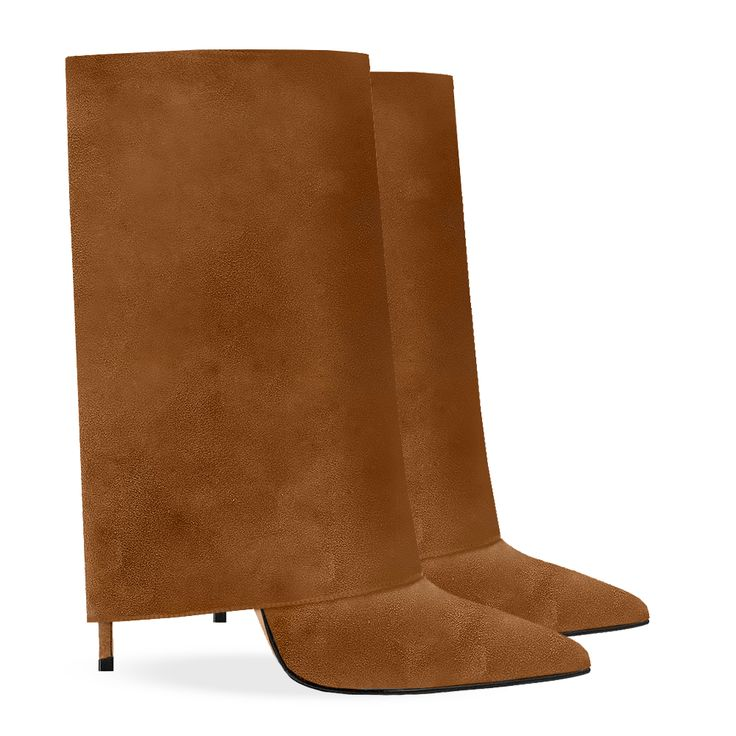gamuza: (65, 50, 650, 693)
